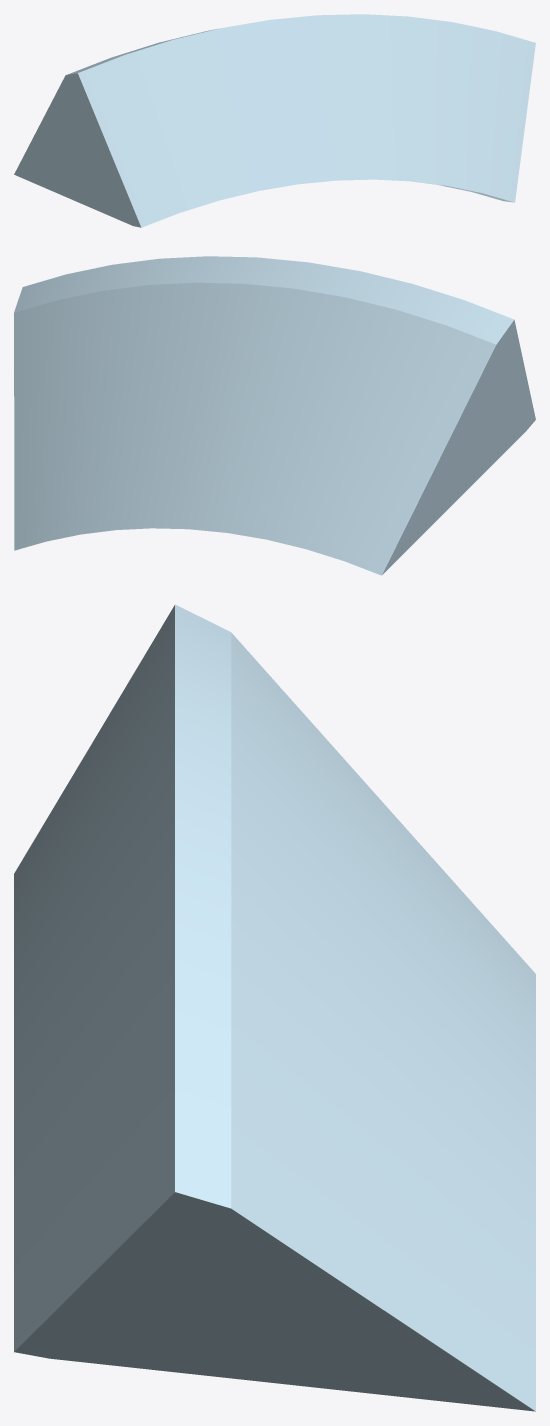
The model's file is Sub_3_Cell_1_3.gltf.
3 renders of one model, top to bottom at view 1: azimuth 30°, elevation 25°; view 2: azimuth 150°, elevation 25°; view 3: azimuth 270°, elevation 25°, orthographic. The views are drawn at different scales.
Visible parts, largest first — view 1: Sub_3_Cell_1_3; view 2: Sub_3_Cell_1_3; view 3: Sub_3_Cell_1_3.
Boxes of the visible parts, x1=… form: Sub_3_Cell_1_3: x1=14, y1=14, x2=535, y2=227; Sub_3_Cell_1_3: x1=14, y1=256, x2=535, y2=575; Sub_3_Cell_1_3: x1=14, y1=604, x2=535, y2=1411.
Size of the model in its own units: 0.1156 by 0.0597 by 0.0592.
